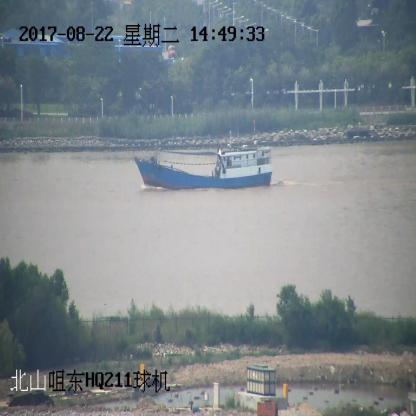Fishing Boat: (136, 122, 273, 190)
